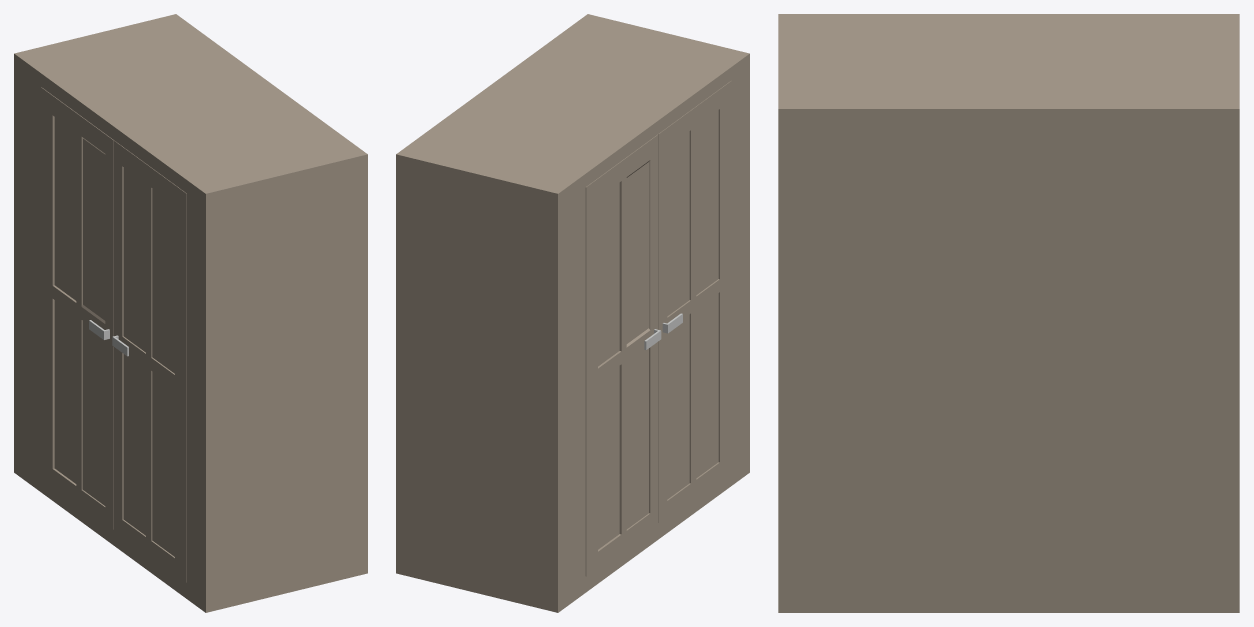
Rendered from Wardrobe.fbx.
3 views of the same model, side by side, from view 1: azimuth 30°, elevation 25°; view 2: azimuth 150°, elevation 25°; view 3: azimuth 270°, elevation 25° (orthographic). The views are drawn at different scales.
Visible parts, largest first — view 1: Cube.008, UpperDrawer.006, UpperDrawer.007; view 2: Cube.008, UpperDrawer.007, UpperDrawer.006; view 3: Cube.008.
Part boxes in pixels (box(x1,y1,x2,y2)): Cube.008: box(14, 14, 367, 612); UpperDrawer.006: box(112, 140, 186, 582); UpperDrawer.007: box(41, 87, 113, 529); Cube.008: box(396, 14, 749, 612); UpperDrawer.007: box(585, 134, 661, 576); UpperDrawer.006: box(658, 81, 731, 522); Cube.008: box(778, 14, 1239, 612).
Bounding box in the file's own units: 226 × 538 × 446.
